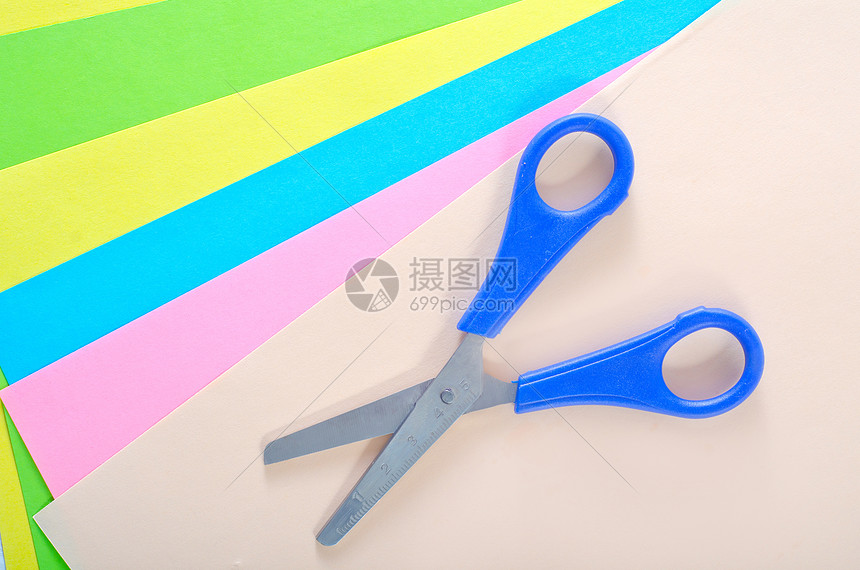scissors: (248, 110, 792, 553)
